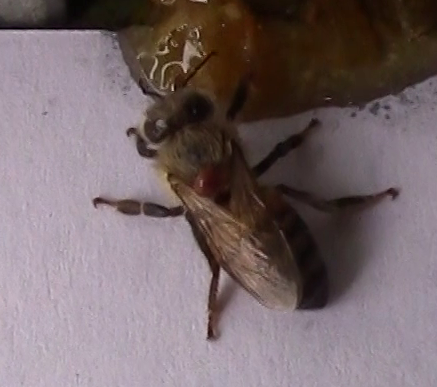Varroa destructor: (189, 159, 232, 199)
